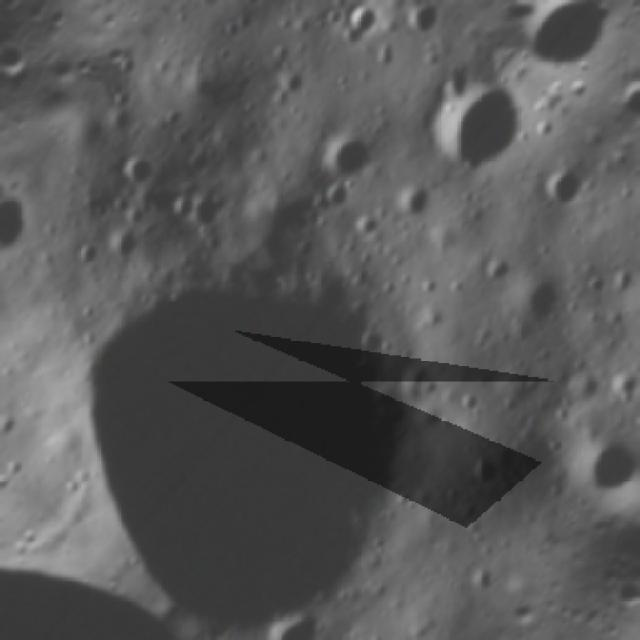crater: (0, 166, 518, 640), (400, 37, 557, 194), (494, 249, 589, 346), (555, 407, 640, 498), (309, 109, 396, 196), (529, 151, 600, 223), (0, 182, 52, 273), (383, 165, 448, 230), (248, 591, 334, 640), (330, 0, 396, 51), (469, 240, 522, 292), (398, 0, 454, 45), (627, 207, 640, 340), (180, 0, 238, 17), (210, 0, 276, 12)
